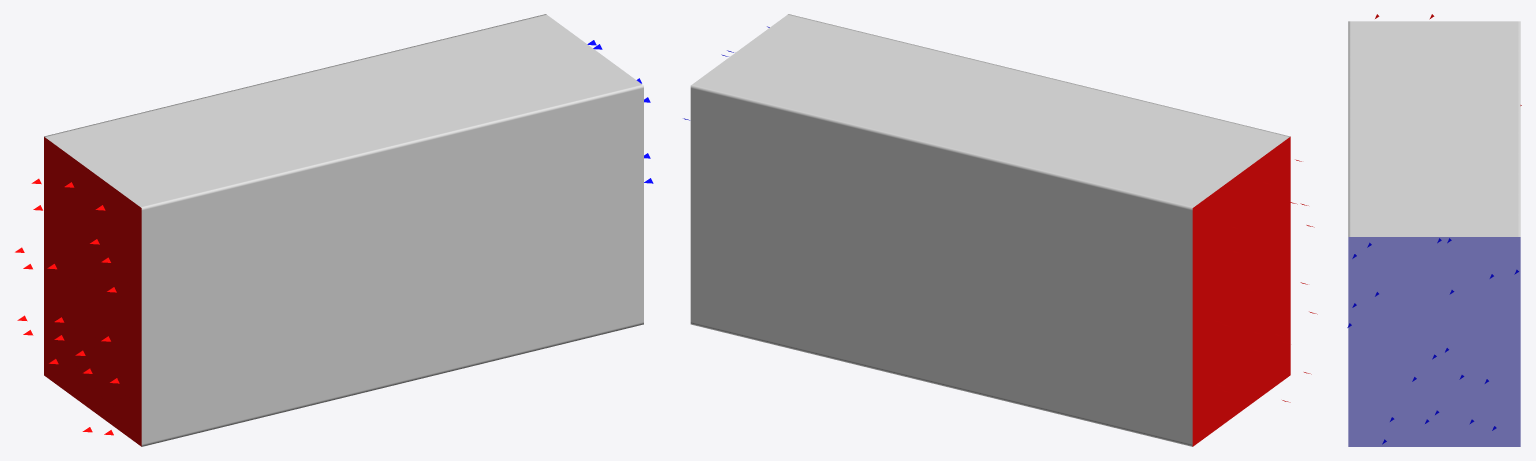
Rendered from 3_Cell_BTMS_Geometry.glb.
The picture shows the model from 3 angles, left to right: view 1: azimuth 30°, elevation 25°; view 2: azimuth 150°, elevation 25°; view 3: azimuth 270°, elevation 25°; orthographic projection. The views are drawn at different scales.
Parts seen in each view (by area): view 1: wall-fluid, outlet, cell_boundary, pcm_boundary, wall-casing; view 2: wall-fluid, outlet, cell_boundary, pcm_boundary, wall-casing; view 3: inlet, wall-fluid, cell_boundary, pcm_boundary, wall-casing.
Boxes of the visible parts, x1,y1,x2,y2 form: wall-fluid: (44, 14, 643, 446); outlet: (15, 137, 141, 446); cell_boundary: (127, 47, 561, 174); pcm_boundary: (116, 42, 572, 179); wall-casing: (112, 41, 576, 180); wall-fluid: (690, 14, 1290, 446); outlet: (1192, 136, 1317, 446); cell_boundary: (773, 47, 1207, 174); pcm_boundary: (761, 42, 1218, 179); wall-casing: (758, 41, 1222, 180); inlet: (1347, 237, 1520, 446); wall-fluid: (1348, 21, 1520, 236); cell_boundary: (1381, 39, 1487, 218); pcm_boundary: (1371, 35, 1497, 223); wall-casing: (1368, 34, 1500, 224).
Bounding box in the file's own units: 0.1661 × 0.0703 × 0.0528.
